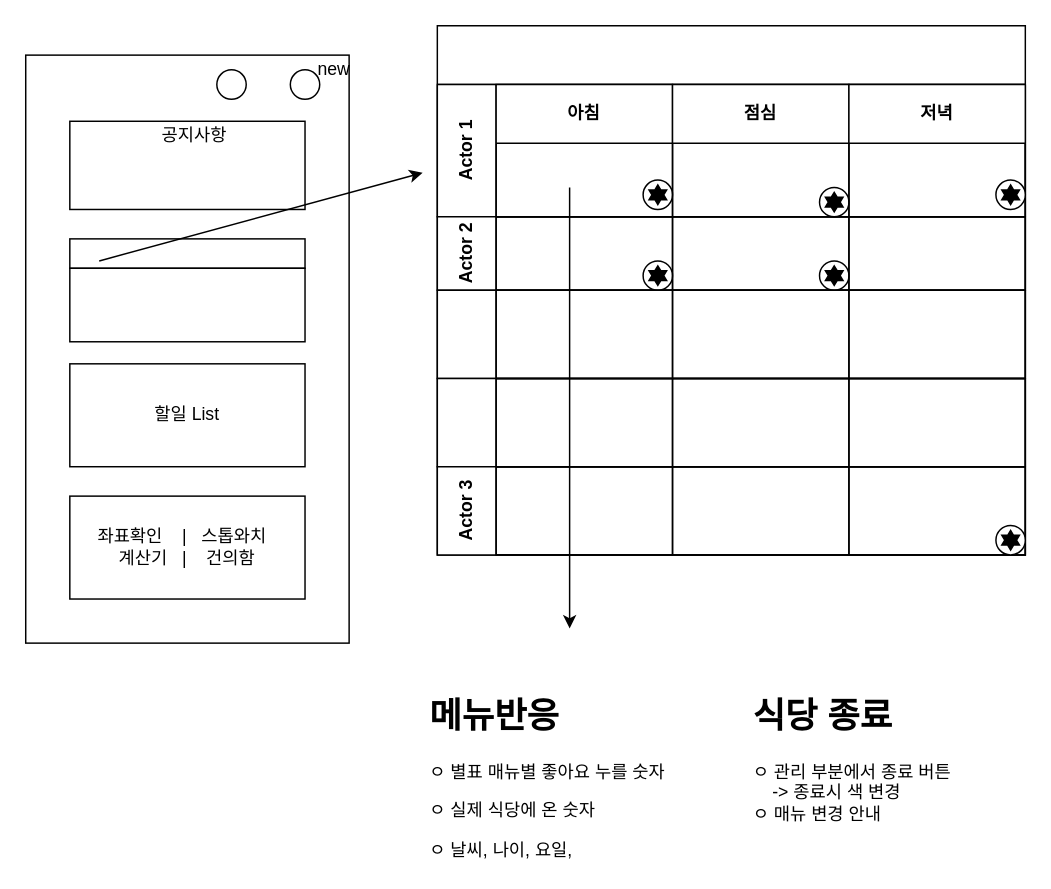
Image size: 1051x889. Some labels were removed from this diagram. Here are the shapes that lost their labels. From the top down, the box of each, then its label:
(68, 237, 305, 268): 식당 | 버스 | 날씨
(436, 24, 1025, 555): Cross-Functional Flowchart
